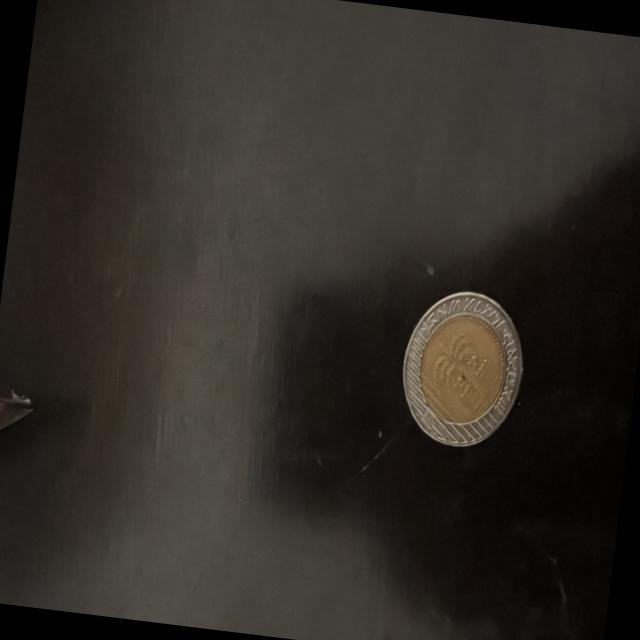10-shekel: (387, 271, 534, 455)
